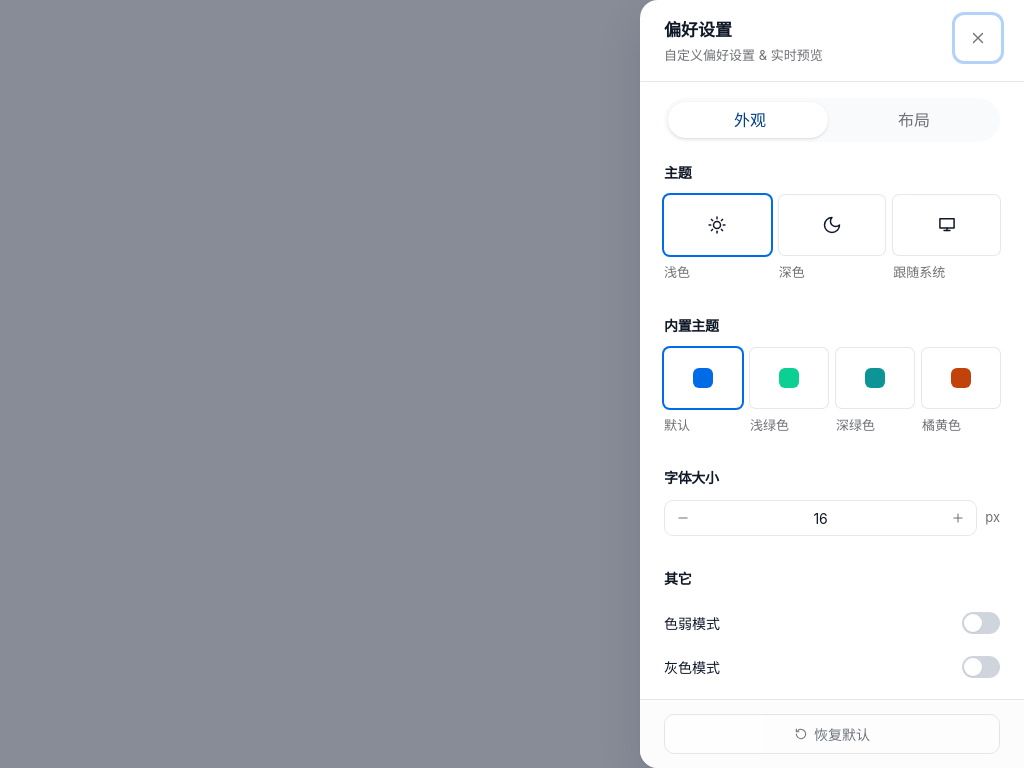
偏好设置抽屉 › 外观/布局分段 tab：默认外观，切布局后六选项可点并写入偏好
Expected: the button "混合双列" is not shown
Click the tab "布局": (914, 120) [832, 102, 996, 138]
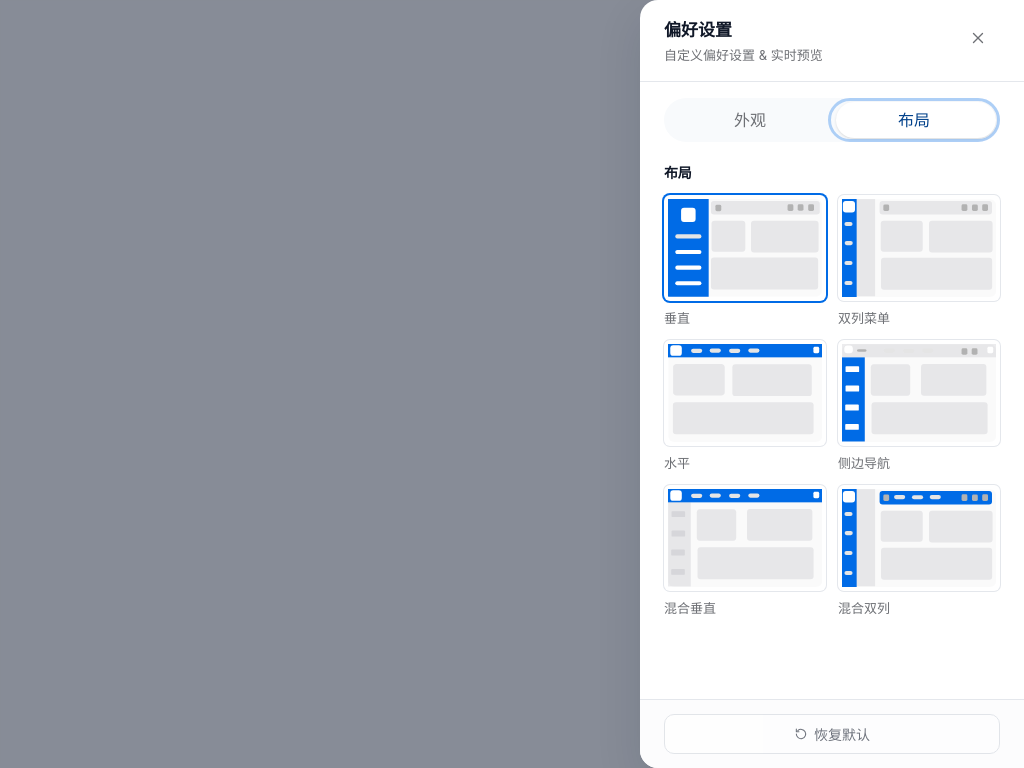
Now the button "垂直" is shown, box [664, 195, 826, 328]
Now the button "双列菜单" is shown, box [838, 195, 1000, 328]
Now the button "水平" is shown
Click the button "水平": (745, 407) [664, 340, 826, 473]
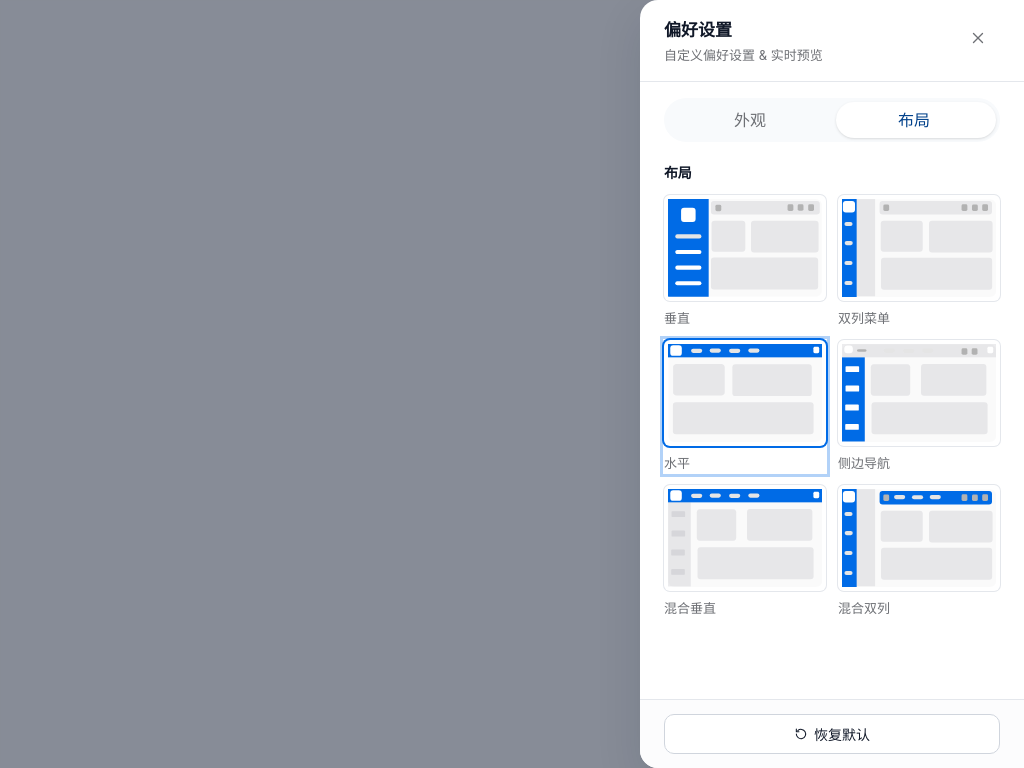
Click the tab "外观": (750, 120) [668, 102, 832, 138]
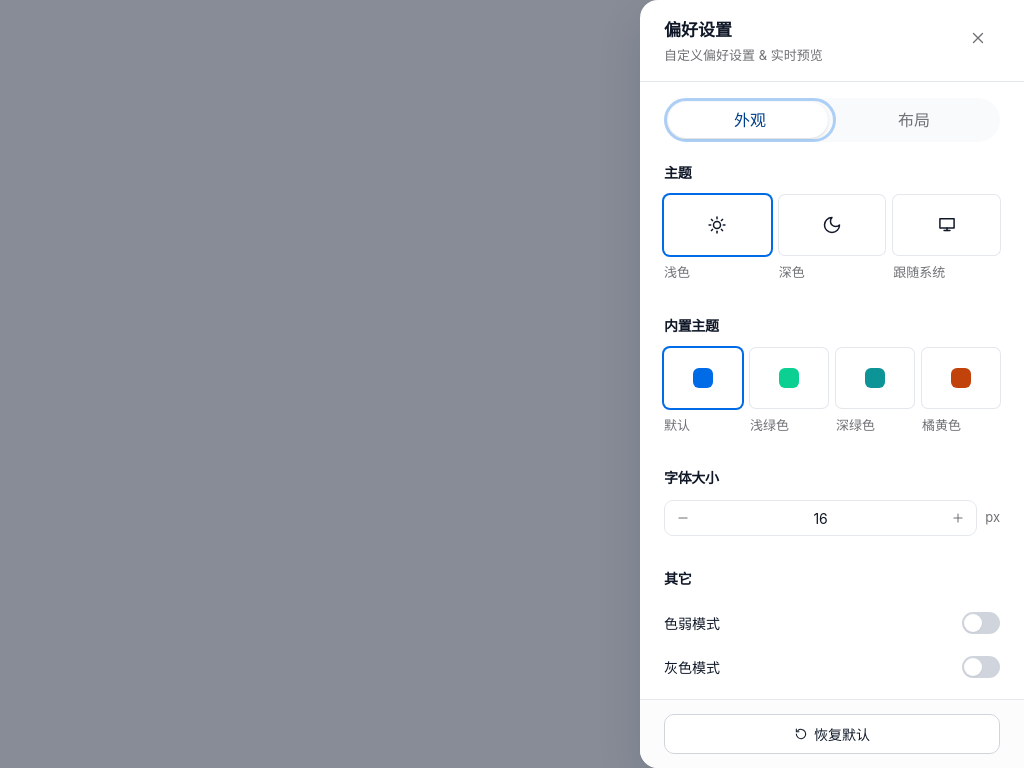
Now the button "混合双列" is gone
